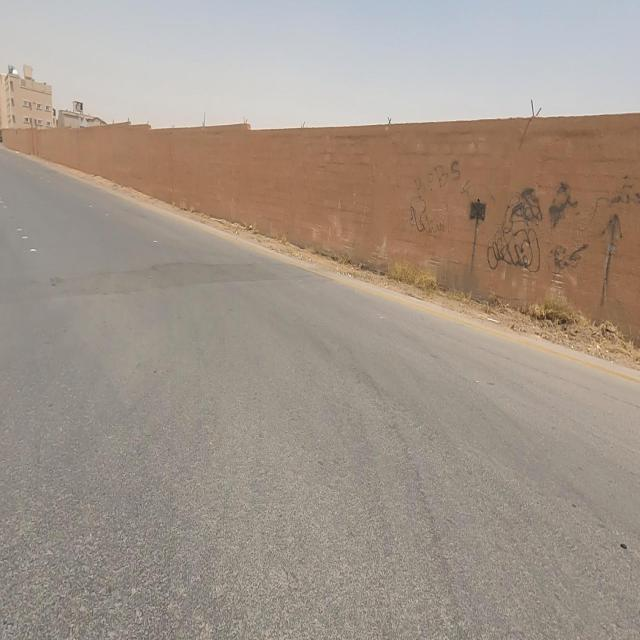Graffiti: (468, 172, 640, 286), (403, 159, 462, 238)
